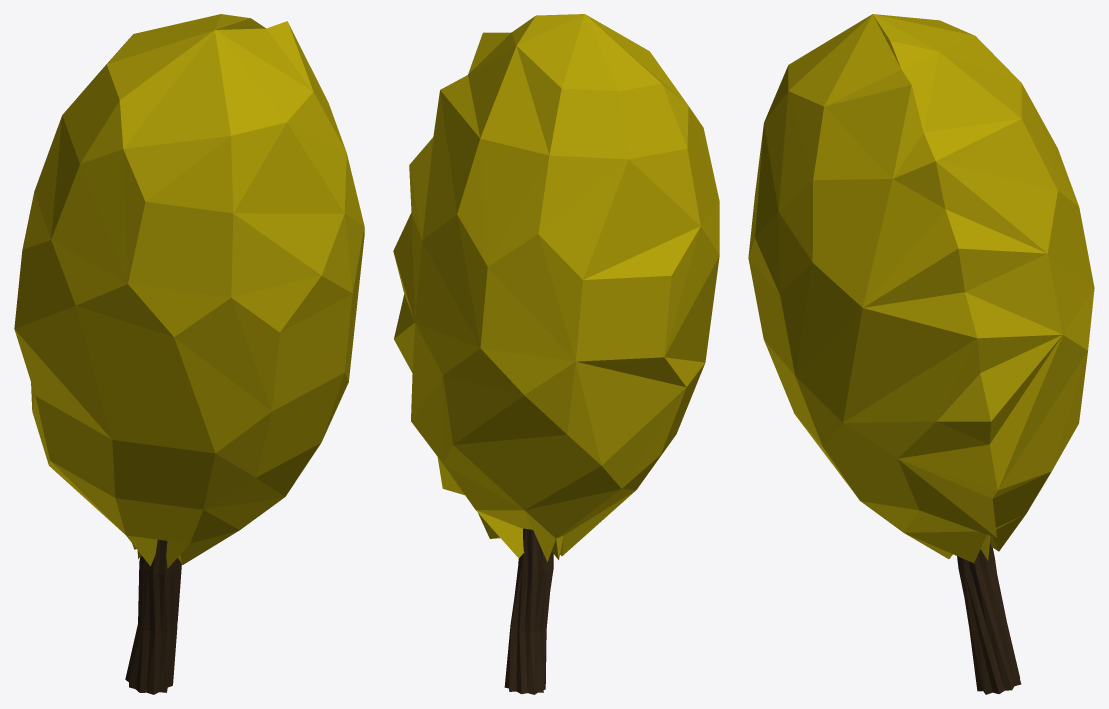
The model's file is TallSkinnyTree_Yellow.fbx.
3 views of the same model, side by side, from view 1: azimuth 30°, elevation 25°; view 2: azimuth 150°, elevation 25°; view 3: azimuth 270°, elevation 25° (orthographic). The views are drawn at different scales.
Parts seen in each view (by area): view 1: pSphere2, pCylinder2; view 2: pSphere2, pCylinder2; view 3: pSphere2, pCylinder2.
Boxes of the visible parts, x1,y1,x2,y2 form: pSphere2: (14,14,364,568); pCylinder2: (125,539,181,694); pSphere2: (393,14,719,562); pCylinder2: (504,528,553,694); pSphere2: (748,14,1094,563); pCylinder2: (957,543,1021,694).
Bounding box in the file's own units: 0.1721 × 0.3806 × 0.1771.
